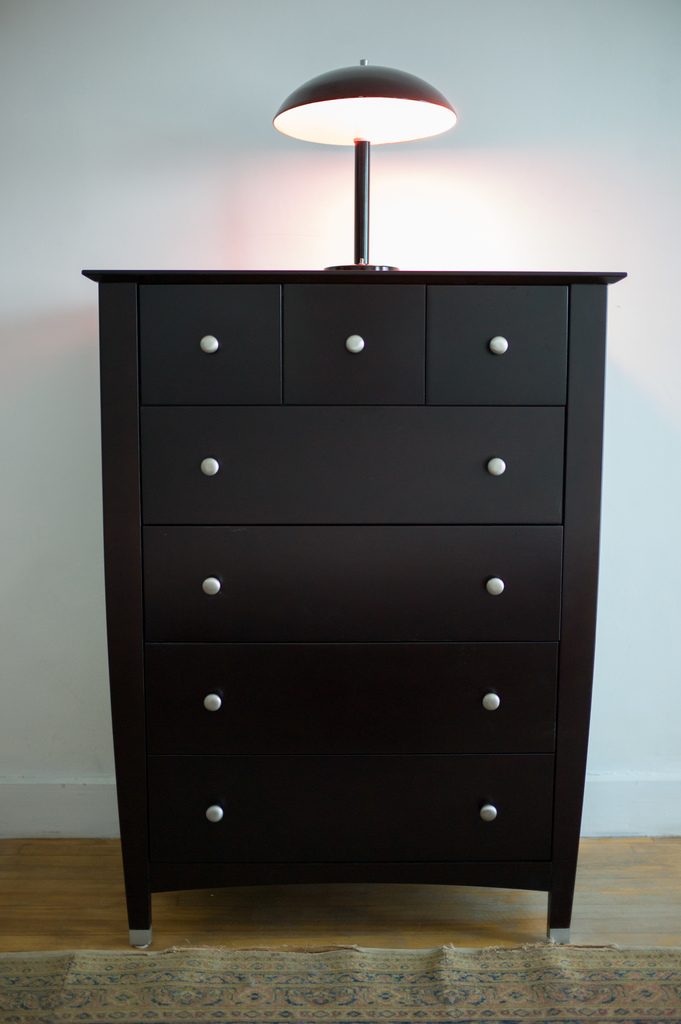cabinet door: (147, 411, 563, 525), (147, 535, 559, 646), (169, 764, 546, 873), (157, 660, 556, 759), (427, 280, 566, 414), (287, 282, 423, 410), (143, 286, 281, 402)
handle: (193, 317, 223, 356), (338, 330, 368, 368), (484, 442, 505, 491), (202, 678, 225, 722), (487, 329, 514, 366), (200, 556, 222, 596), (205, 794, 228, 831), (480, 686, 502, 722), (200, 447, 222, 478), (481, 795, 499, 832), (487, 570, 505, 603)
